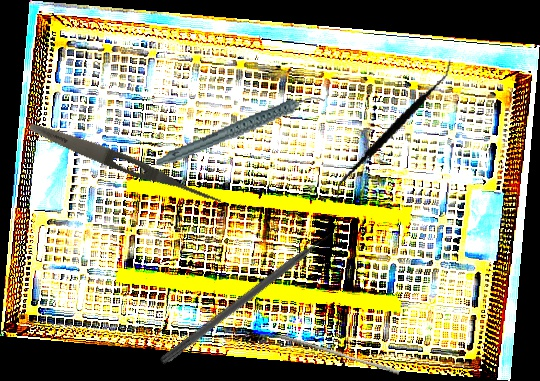Dressing Forceps: (26, 117, 225, 210)
Handpiece: (149, 94, 332, 168)
Pusher: (158, 222, 346, 368), (277, 333, 402, 376)
Spatula Surgical: (335, 44, 453, 218)
